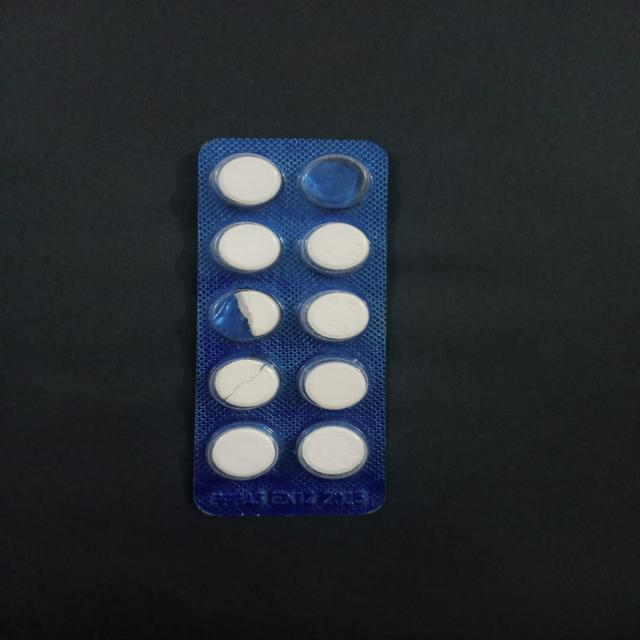defect: (294, 152, 377, 214), (205, 352, 285, 413), (206, 286, 286, 344)
